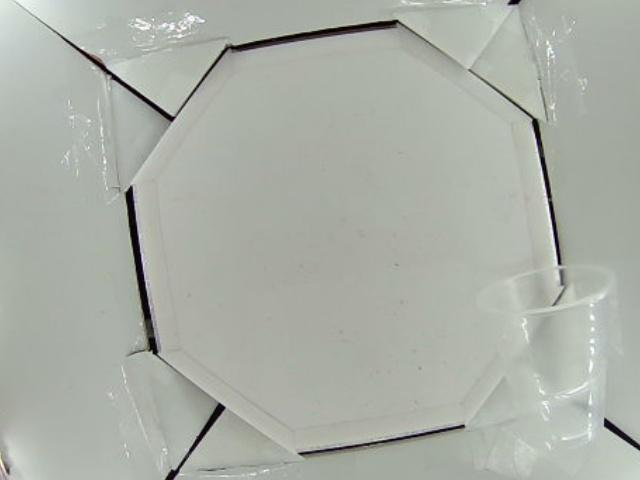Cup: (475, 265, 616, 444)
